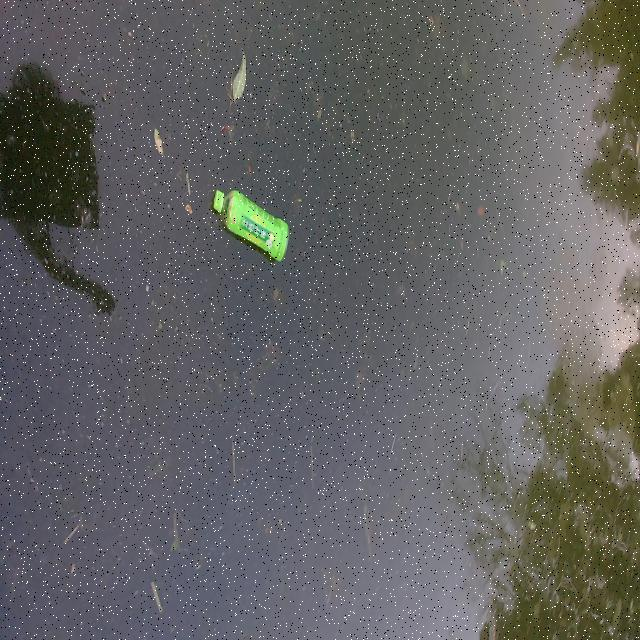Bottle: (209, 180, 293, 264)
